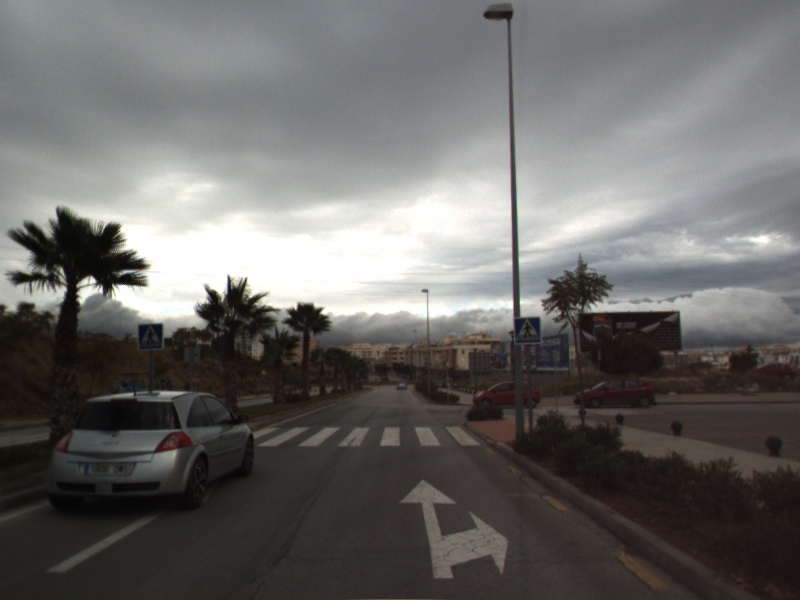STRAIGHT_RIGHT: (397, 477, 511, 580)
